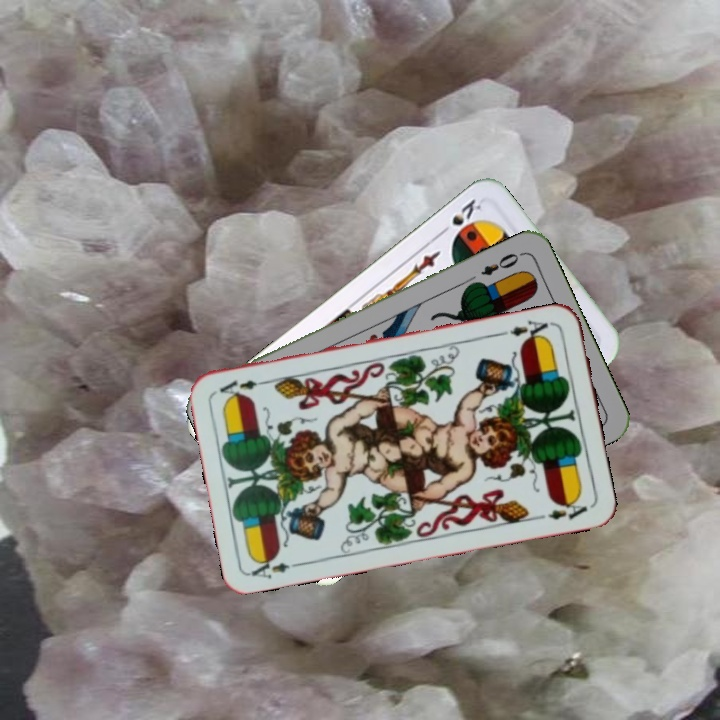EA: (247, 553, 306, 582), (497, 316, 556, 344)
EO: (477, 248, 526, 279)
SK: (434, 194, 484, 239)
